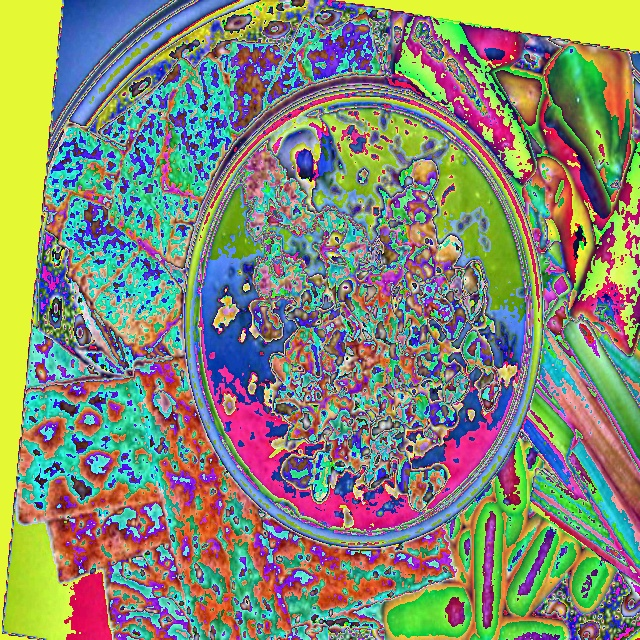background: (14, 7, 639, 639), (197, 104, 528, 538)
